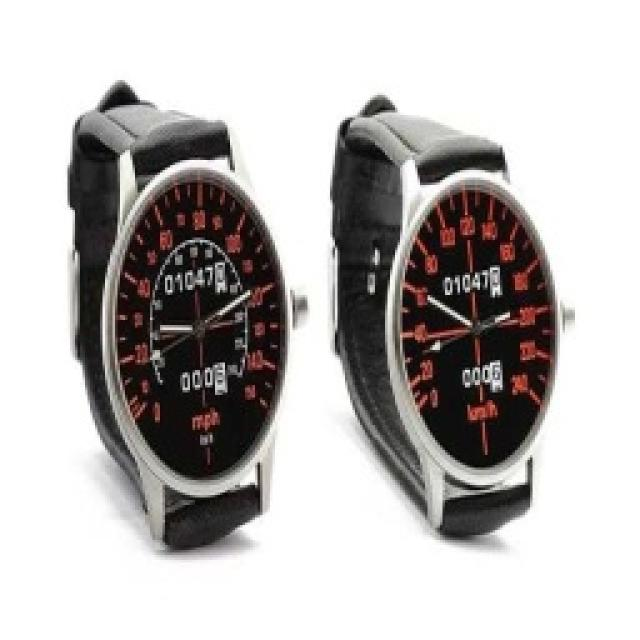saat: (319, 63, 588, 574)
